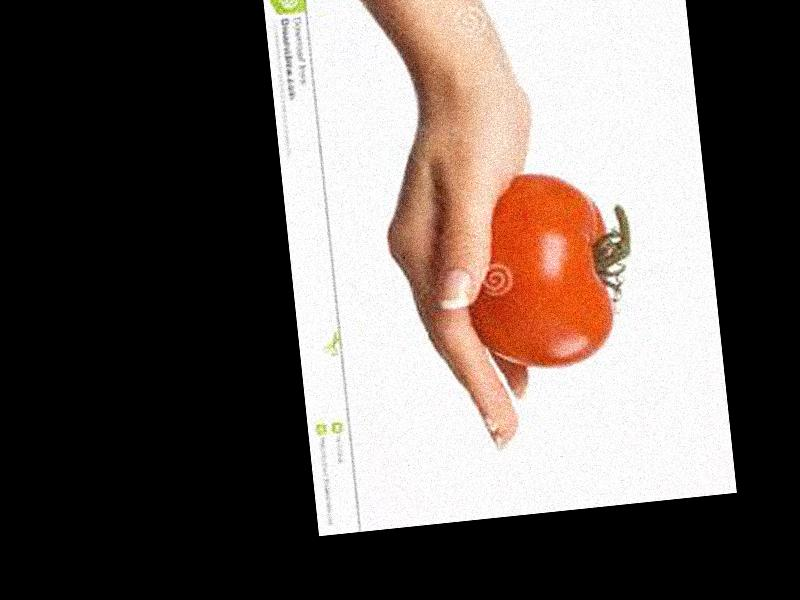Tomato: (457, 167, 619, 375)
